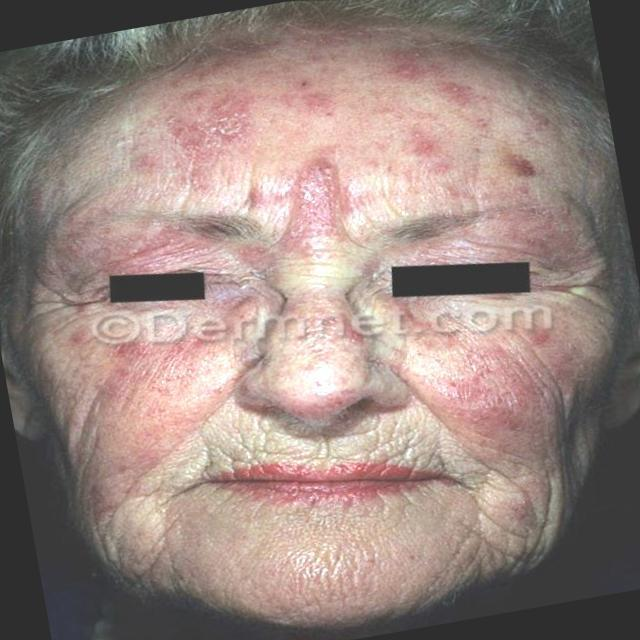skinredness: (0, 0, 638, 576)
